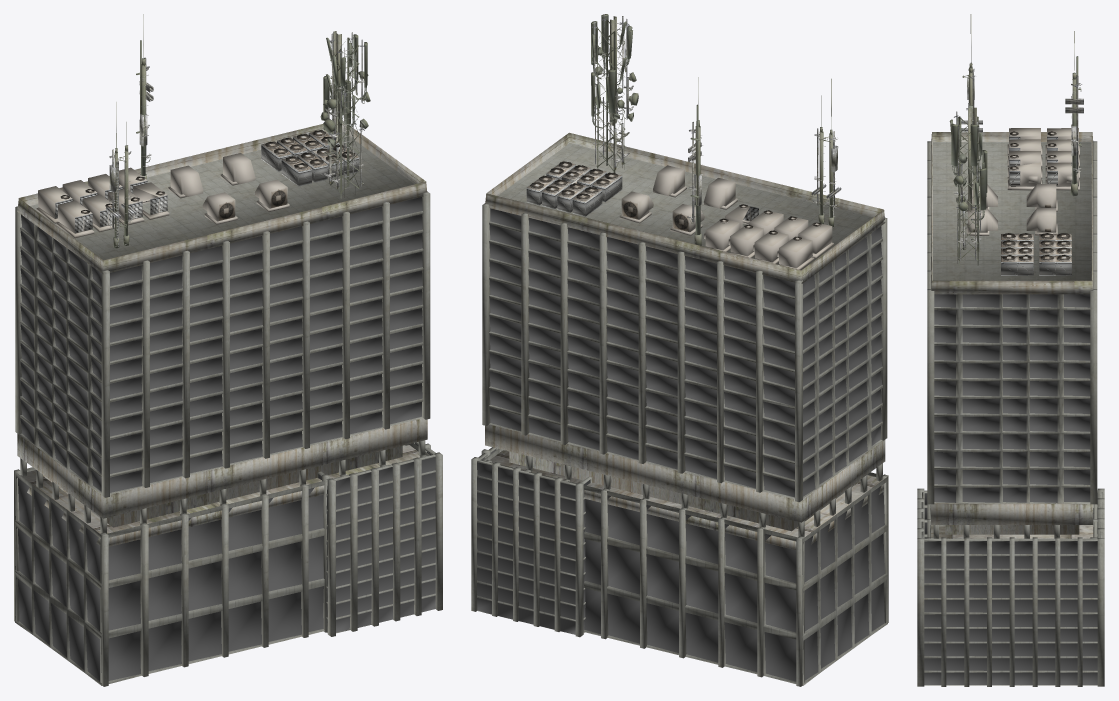
The model's file is short office building.glb.
The picture shows the model from 3 angles, left to right: view 1: azimuth 30°, elevation 25°; view 2: azimuth 150°, elevation 25°; view 3: azimuth 270°, elevation 25°; orthographic projection. The views are drawn at different scales.
Visible parts, largest first — view 1: Office Building Short; view 2: Office Building Short; view 3: Office Building Short.
Boxes of the visible parts, bbox=[...] form: Office Building Short: bbox=[14, 14, 442, 686]; Office Building Short: bbox=[471, 14, 888, 686]; Office Building Short: bbox=[917, 14, 1104, 686].
Size of the model in its own units: 31.65 by 53.04 by 16.22.
8 materials, 7 textured.
